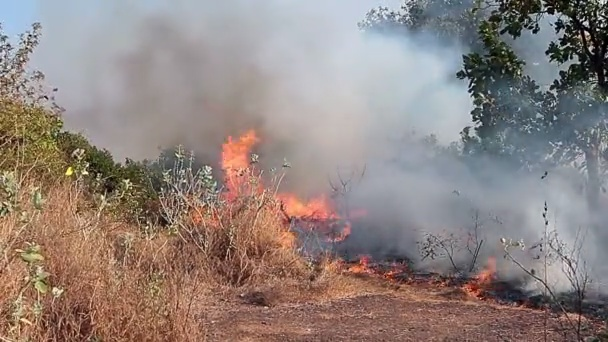fire: (223, 133, 252, 173), (282, 199, 326, 219), (66, 167, 75, 175)
